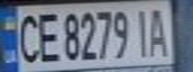2: (78, 7, 100, 61)
7: (96, 7, 115, 61)
8: (60, 8, 81, 62)
9: (112, 6, 133, 60)
A: (145, 3, 172, 57)
C: (12, 9, 42, 64)
E: (33, 8, 63, 63)
I: (130, 4, 154, 58)
